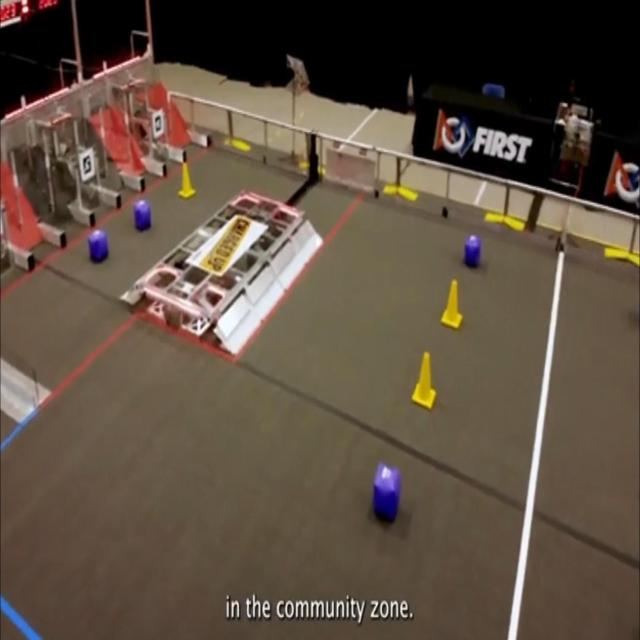frc_cone: (412, 350, 436, 410), (440, 279, 463, 330), (178, 163, 195, 199)
frc_cube: (372, 462, 400, 523), (88, 228, 108, 263), (464, 236, 481, 268), (134, 200, 151, 231)
